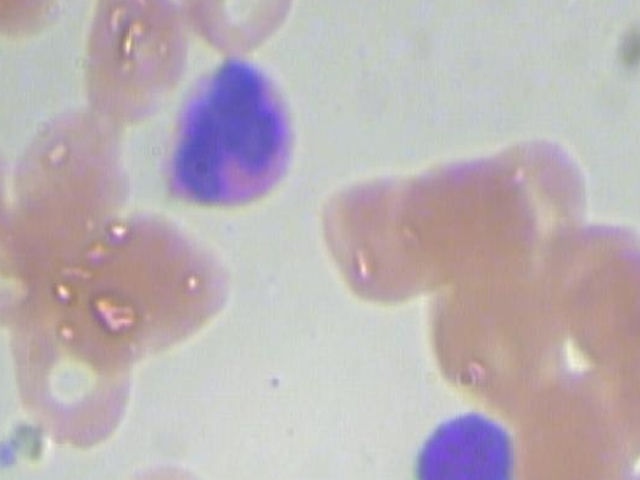RBC: (3, 291, 137, 457), (311, 174, 453, 317), (1, 100, 143, 242), (469, 127, 600, 256), (63, 0, 205, 112), (557, 247, 640, 377), (174, 0, 315, 56), (597, 334, 640, 462), (91, 465, 232, 480), (580, 452, 640, 480)
WBC: (150, 52, 309, 217), (403, 404, 522, 480)
